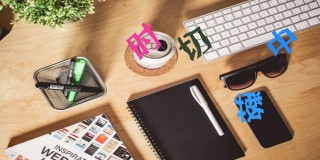中: (266, 28, 298, 56)
切: (178, 27, 212, 61)
弊: (234, 91, 264, 123)
时: (125, 22, 161, 60)
